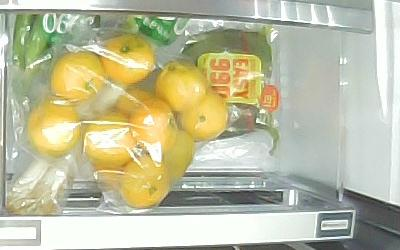tangerine_vinyl: (28, 97, 81, 158), (101, 34, 156, 87), (83, 113, 136, 168), (154, 59, 206, 112), (128, 99, 179, 153), (51, 51, 104, 102), (119, 156, 170, 207), (178, 92, 228, 140), (164, 126, 195, 179), (115, 89, 154, 117)
